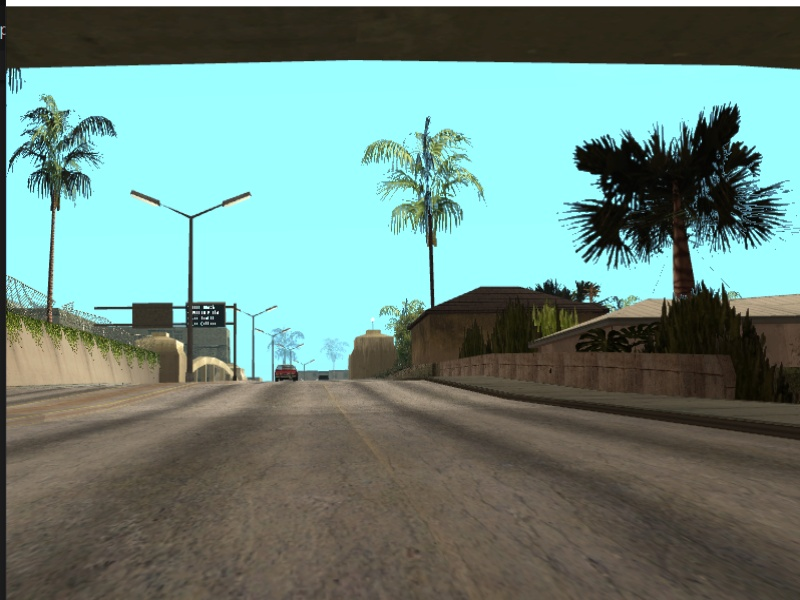pole: (185, 216, 201, 383), (230, 304, 242, 383), (250, 314, 258, 380)
vehicle: (276, 363, 301, 383)
